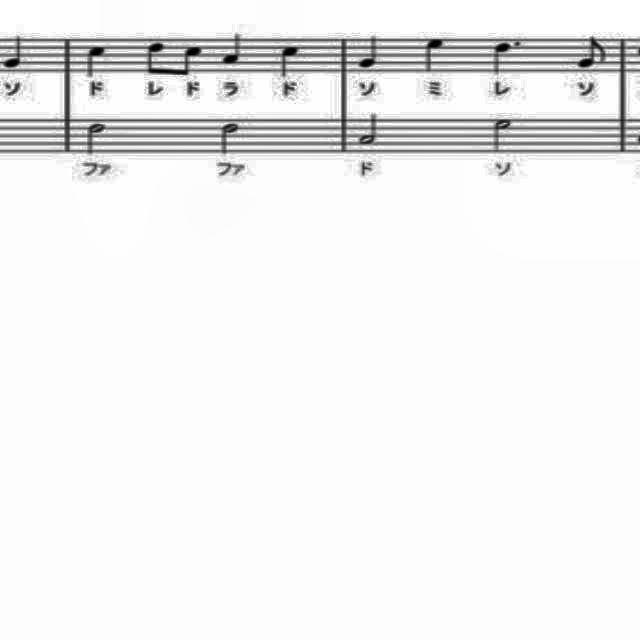Eighth-note: (572, 36, 612, 76), (140, 28, 168, 82), (176, 39, 208, 79)
Half-note: (215, 116, 245, 160), (488, 116, 516, 160), (356, 110, 386, 150), (83, 121, 109, 157)
Quarter-dot: (492, 36, 528, 82)
Quarter-note: (78, 38, 112, 82), (217, 27, 249, 69), (0, 32, 28, 76), (423, 34, 452, 76), (276, 39, 304, 79), (355, 37, 385, 71)
